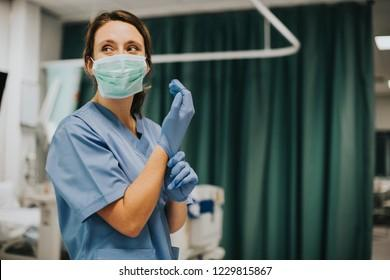gloves: (157, 78, 195, 158), (162, 151, 200, 203)
